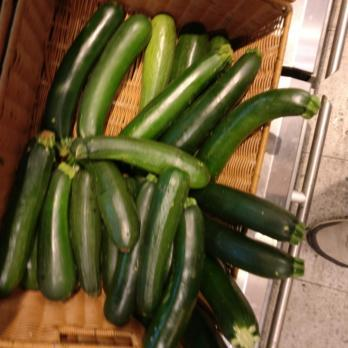Cucumber: (4, 129, 273, 348), (38, 0, 258, 144)
